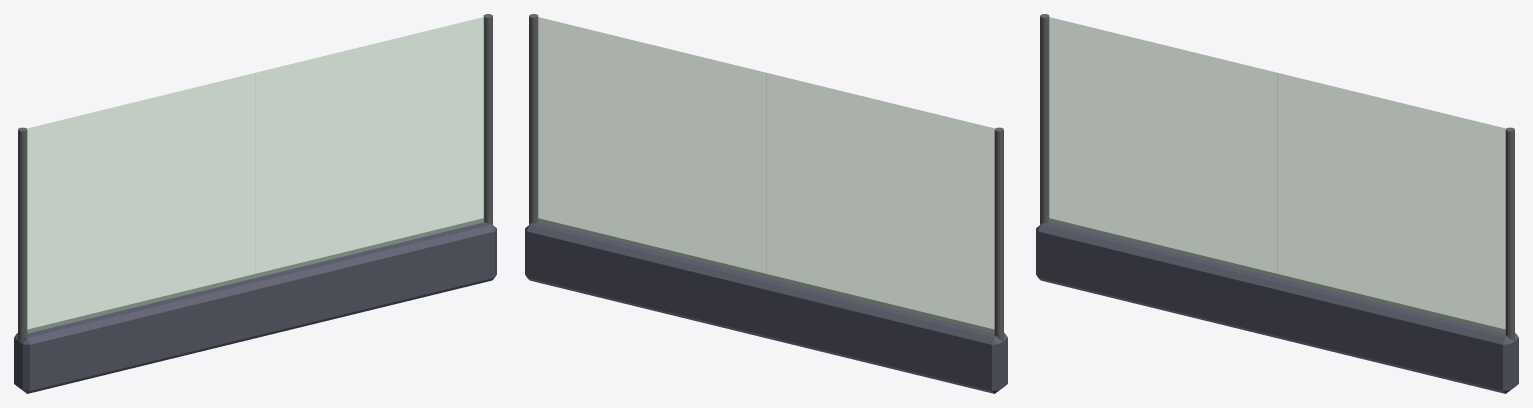
The model's file is ShopWall.fbx.
3 renders of one model, left to right at view 1: azimuth 30°, elevation 25°; view 2: azimuth 150°, elevation 25°; view 3: azimuth 330°, elevation 25°, orthographic.
Parts seen in each view (by area): view 1: ShopWall; view 2: ShopWall; view 3: ShopWall.
Part boxes in pixels (bbox=[...]): ShopWall: bbox=[14, 14, 496, 393]; ShopWall: bbox=[525, 14, 1007, 393]; ShopWall: bbox=[1036, 14, 1518, 393].
Bounding box in the file's own units: 1008 × 531 × 51.76.
